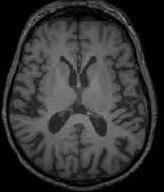Normal_Brain: (1, 1, 164, 191)
